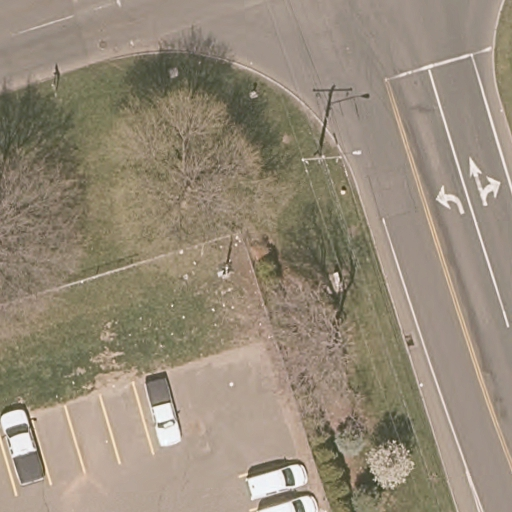DT: (300, 154, 344, 167)
